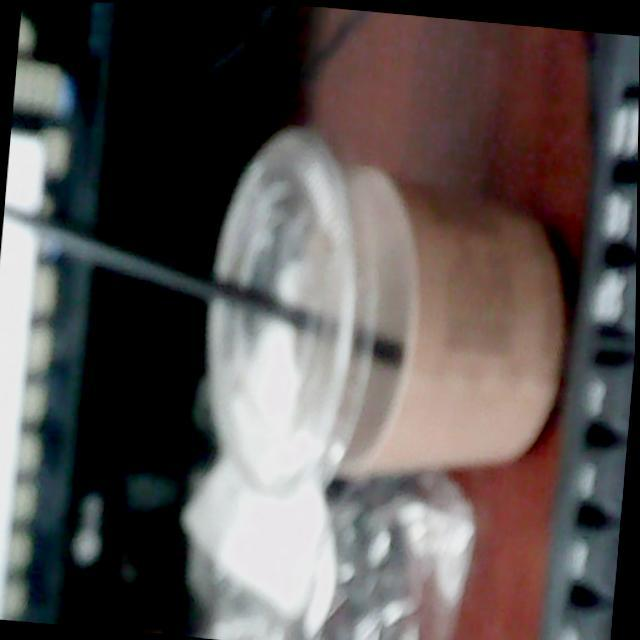cup: (200, 119, 590, 509)
